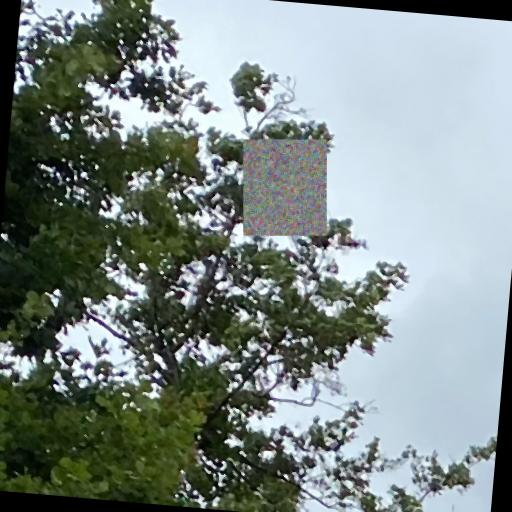tree: (1, 1, 497, 512)
